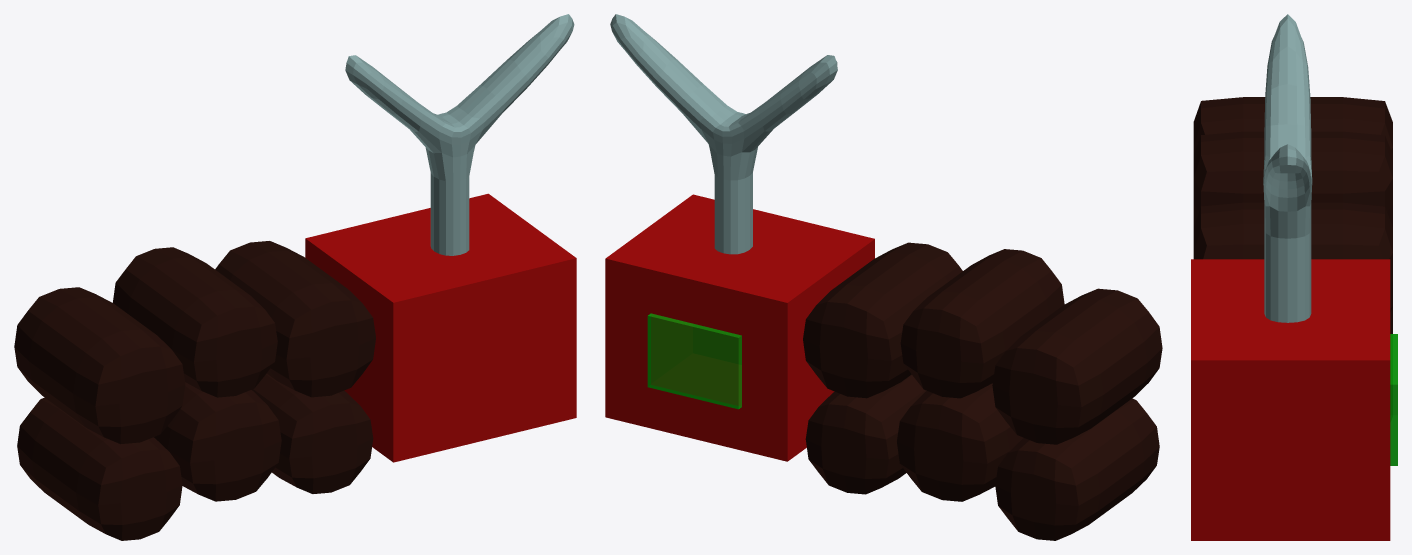
The model's file is bomb.obj.
The picture shows the model from 3 angles, left to right: view 1: azimuth 30°, elevation 25°; view 2: azimuth 150°, elevation 25°; view 3: azimuth 270°, elevation 25°; orthographic projection. The views are drawn at different scales.
Parts seen in each view (by area): view 1: Bomb_Cube.1160; view 2: Bomb_Cube.1160; view 3: Bomb_Cube.1160.
Boxes of the visible parts, <box> form: Bomb_Cube.1160: <box>14,14,576,540</box>; Bomb_Cube.1160: <box>605,14,1162,540</box>; Bomb_Cube.1160: <box>1191,14,1397,540</box>.
Size of the model in its own units: 2.73 by 2 by 0.83.
